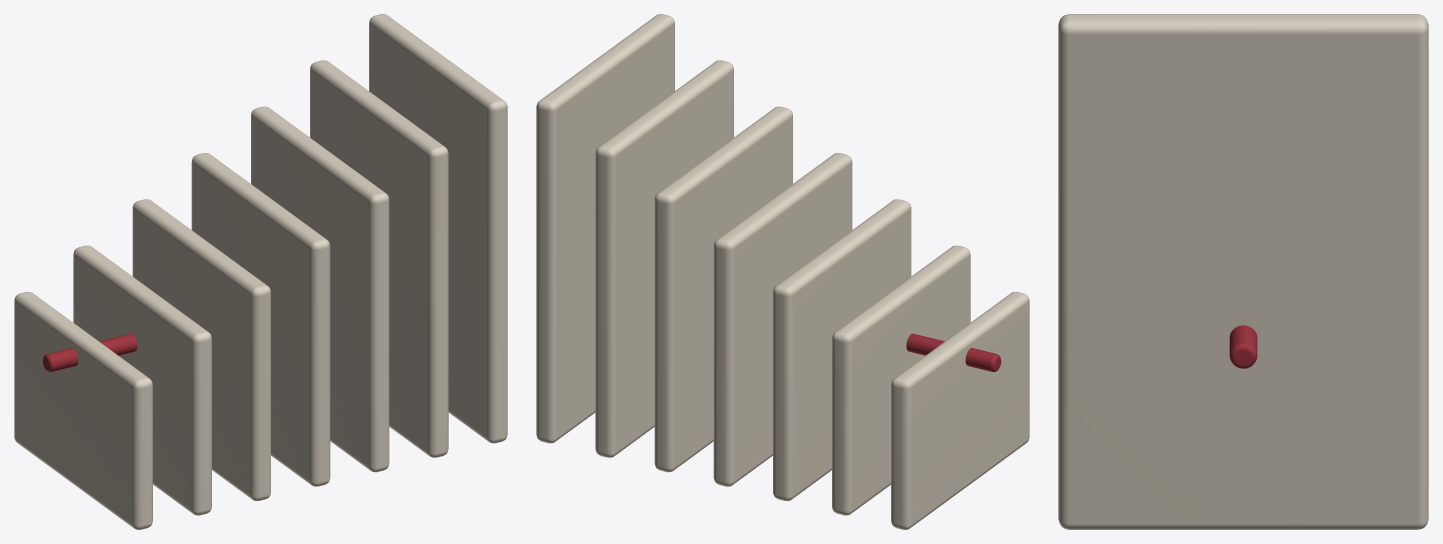
File: VSV-012.glb
3 renders of one model, left to right at view 1: azimuth 30°, elevation 25°; view 2: azimuth 150°, elevation 25°; view 3: azimuth 270°, elevation 25°, orthographic. The views are drawn at different scales.
Parts seen in each view (by area): view 1: VSV-012_alignment__aligned slab.006, VSV-012_alignment__aligned slab.005, VSV-012_alignment__aligned slab.004, VSV-012_alignment__aligned slab.003, VSV-012_alignment__aligned slab, VSV-012_alignment__aligned slab.002, VSV-012_alignment__aligned slab.001, VSV-012_alignment__through line; view 2: VSV-012_alignment__aligned slab.006, VSV-012_alignment__aligned slab.005, VSV-012_alignment__aligned slab.004, VSV-012_alignment__aligned slab.003, VSV-012_alignment__aligned slab, VSV-012_alignment__aligned slab.002, VSV-012_alignment__aligned slab.001, VSV-012_alignment__through line; view 3: VSV-012_alignment__aligned slab.006, VSV-012_alignment__through line.
Boxes of the visible parts, box(x1,y1,x2,y2) form: VSV-012_alignment__aligned slab.006: box(369, 14, 507, 443); VSV-012_alignment__aligned slab.005: box(310, 60, 448, 457); VSV-012_alignment__aligned slab.004: box(251, 106, 389, 472); VSV-012_alignment__aligned slab.003: box(191, 153, 330, 486); VSV-012_alignment__aligned slab: box(14, 291, 152, 529); VSV-012_alignment__aligned slab.002: box(132, 199, 270, 500); VSV-012_alignment__aligned slab.001: box(73, 245, 211, 515); VSV-012_alignment__through line: box(42, 333, 137, 371); VSV-012_alignment__aligned slab.006: box(536, 14, 674, 443); VSV-012_alignment__aligned slab.005: box(595, 60, 733, 457); VSV-012_alignment__aligned slab.004: box(654, 106, 792, 472); VSV-012_alignment__aligned slab.003: box(713, 153, 852, 486); VSV-012_alignment__aligned slab: box(891, 291, 1029, 529); VSV-012_alignment__aligned slab.002: box(773, 199, 911, 500); VSV-012_alignment__aligned slab.001: box(832, 245, 970, 515); VSV-012_alignment__through line: box(906, 333, 1001, 371); VSV-012_alignment__aligned slab.006: box(1058, 14, 1428, 529); VSV-012_alignment__through line: box(1229, 325, 1257, 368).
Size of the model in its own units: 2.4 by 1.82 by 1.2.
